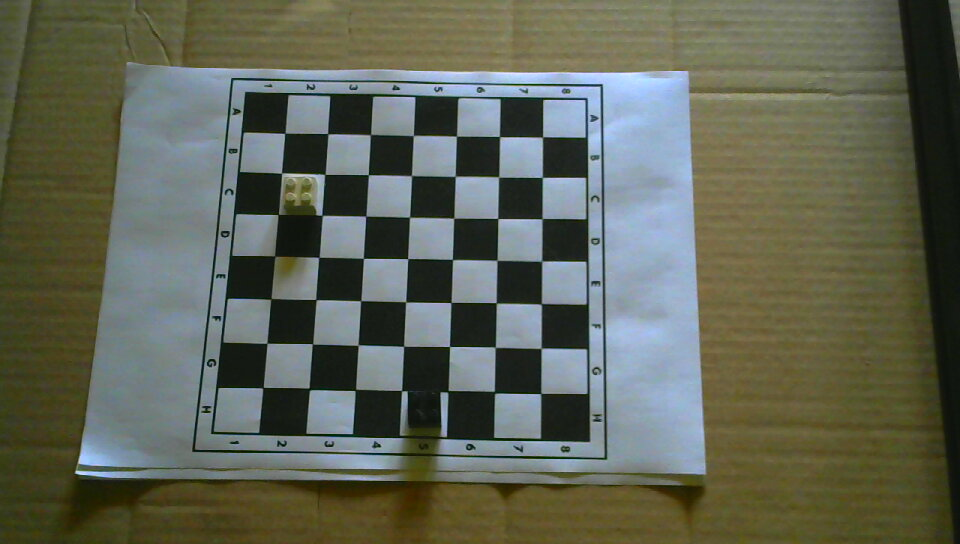bp: (405, 387, 443, 431)
wp: (281, 174, 319, 216)
